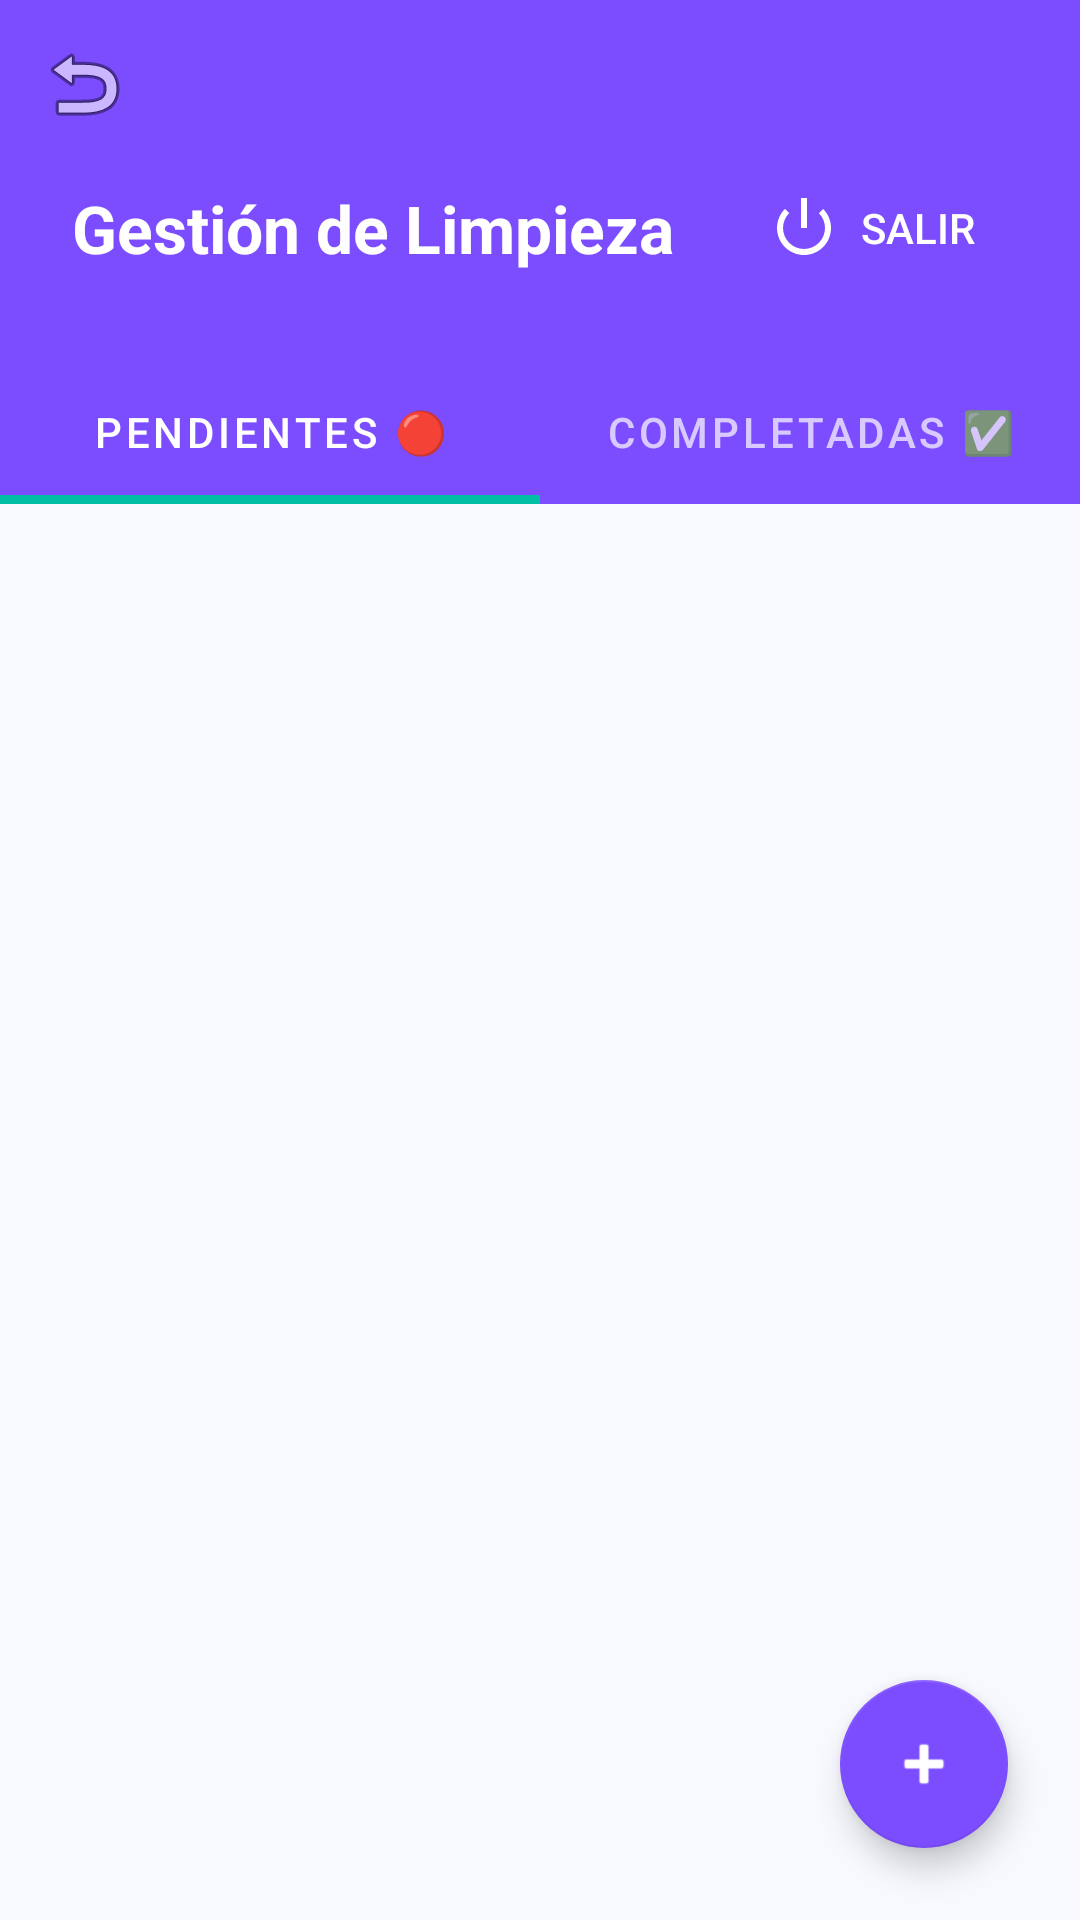

Point at icon controls on the screen. Image size 1080w x 1920h, points as (x,y).
Nueva Tarea: (924,1764)
